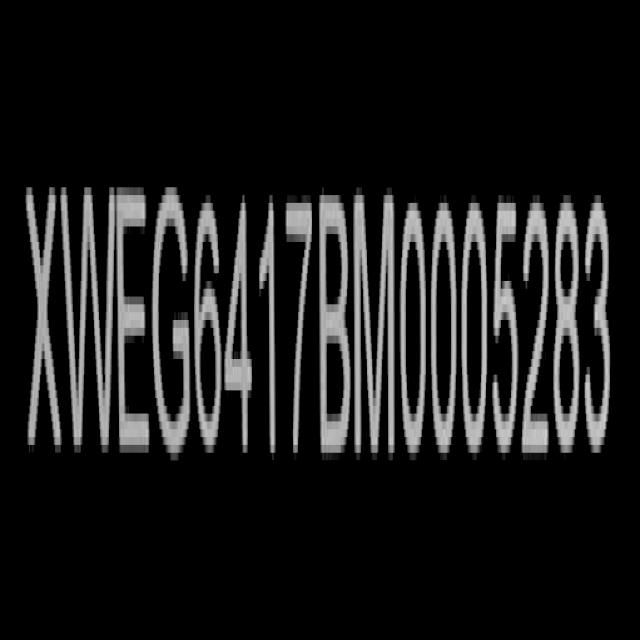0: (400, 197, 431, 461), (431, 199, 459, 460), (461, 200, 487, 459)
1: (259, 187, 278, 465)
2: (524, 208, 551, 464)
3: (583, 198, 611, 456)
4: (223, 196, 254, 466)
5: (495, 195, 520, 462)
6: (194, 190, 225, 464)
7: (286, 188, 317, 470)
8: (552, 203, 579, 462)
B: (319, 189, 352, 465)
E: (117, 180, 152, 466)
G: (152, 182, 193, 464)
M: (355, 186, 394, 462)
W: (66, 178, 117, 465)
X: (28, 174, 65, 466)
